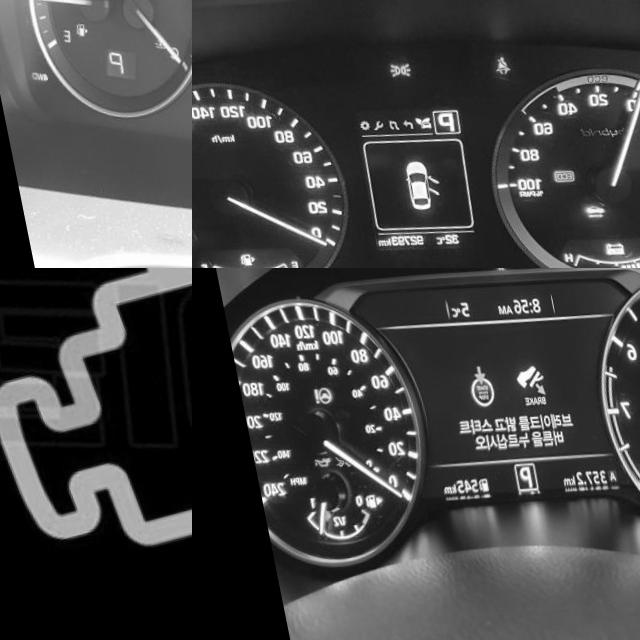SideLamp: (380, 66, 405, 84)
